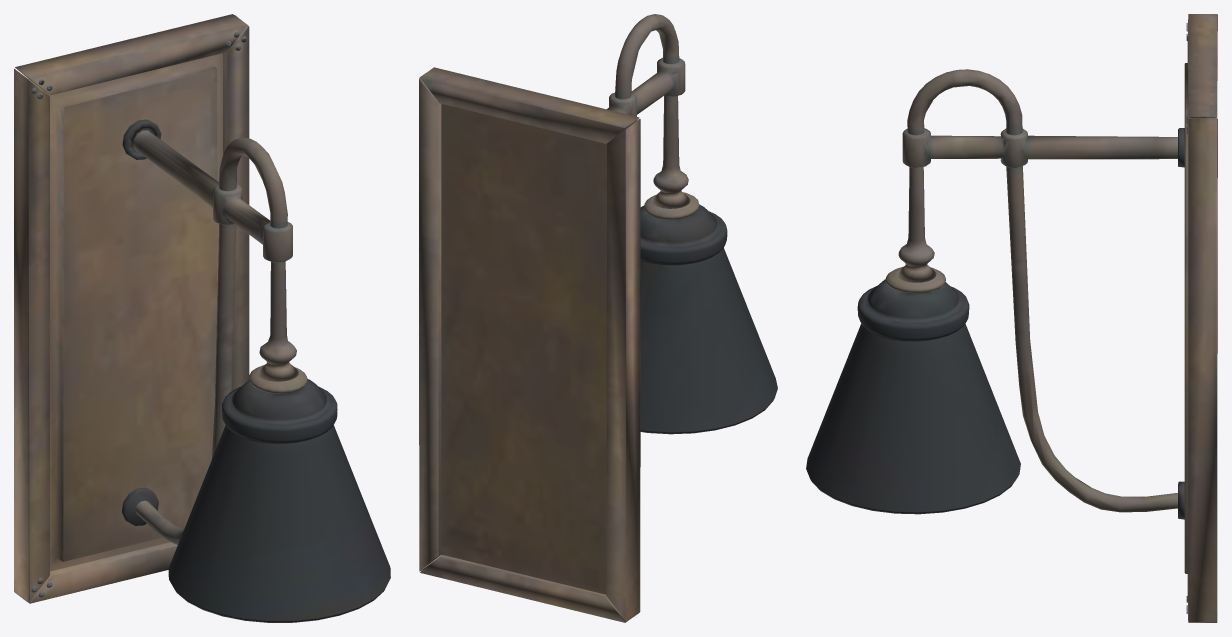
Rendered from industrial_wall_sconce.glb.
3 renders of one model, left to right at view 1: azimuth 30°, elevation 25°; view 2: azimuth 150°, elevation 25°; view 3: azimuth 270°, elevation 25°, orthographic. The views are drawn at different scales.
Parts seen in each view (by area): view 1: industrial_wall_sconce; view 2: industrial_wall_sconce; view 3: industrial_wall_sconce.
Part boxes in pixels (x1,y1,x2,y2): industrial_wall_sconce: (14,14,390,622); industrial_wall_sconce: (419,14,777,622); industrial_wall_sconce: (806,14,1217,622).
Bounding box in the file's own units: 0.15 × 0.3413 × 0.2516.
2 materials, 2 textured.
